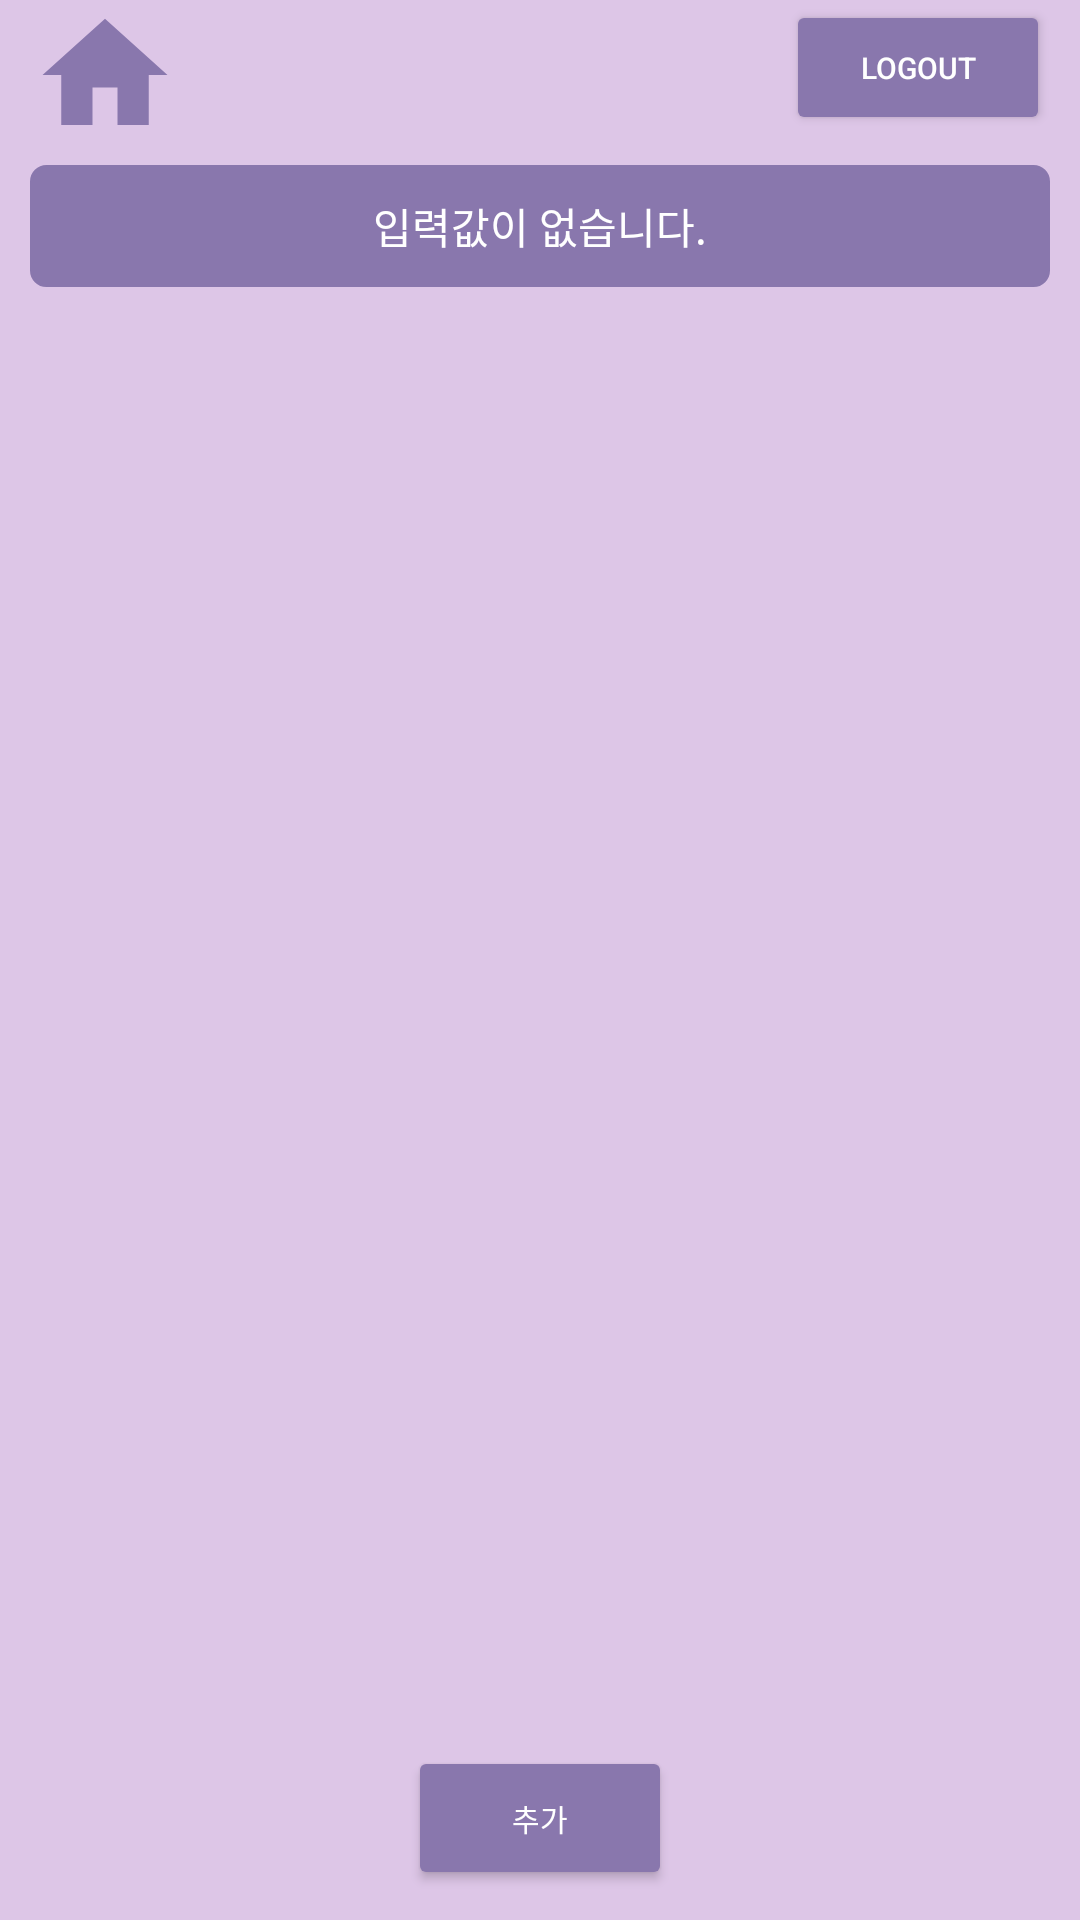

Named icons in this screenshot (1080x1920) and their bounding boxes, [x1=x1, y1=y1, x2=x2, y2=y2]:
home: [x1=43, y1=19, x2=167, y2=125]
